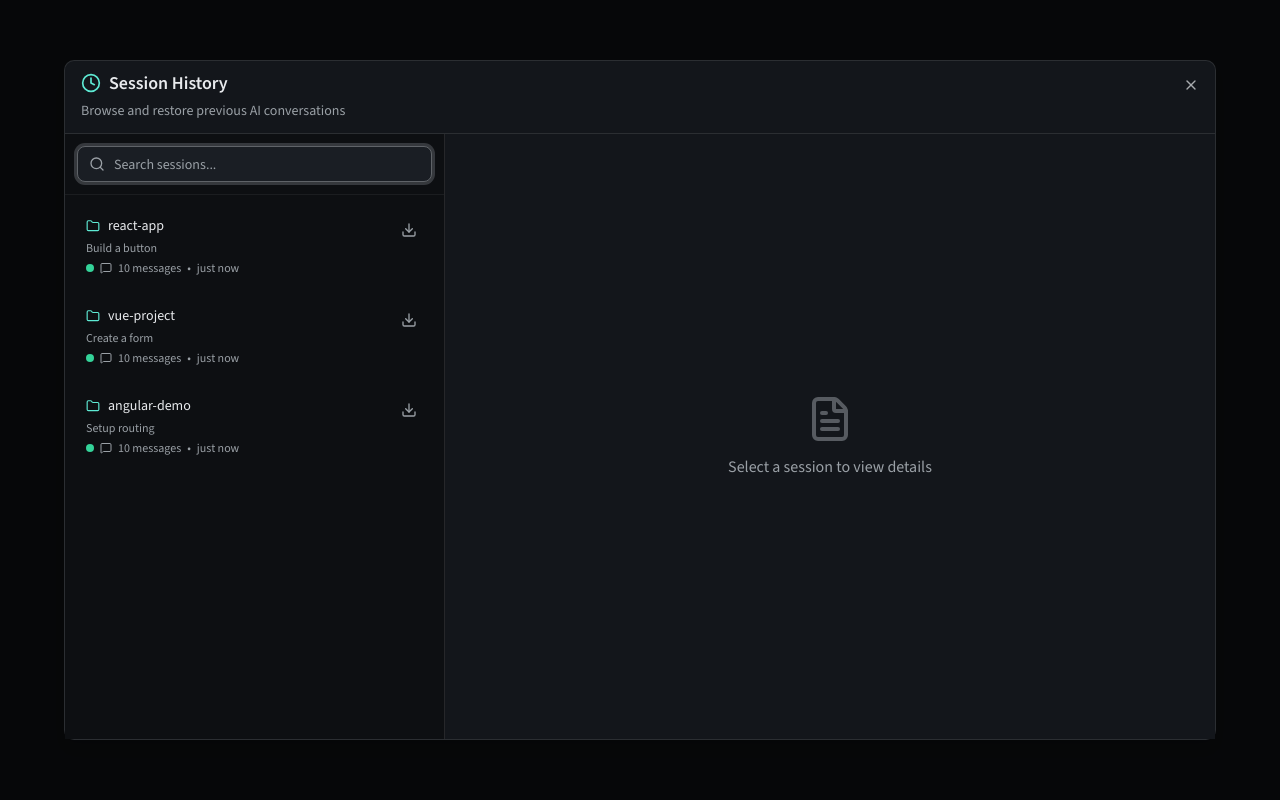
it: SessionBrowser › search filtering › should filter sessions based on search query
expect the text "react-app" is shown: met, box [108,216,164,236]
Note: Type in search box
Type "react" into the field with placeholder "Search sessions..." at (254, 164), box [77,146,432,182]
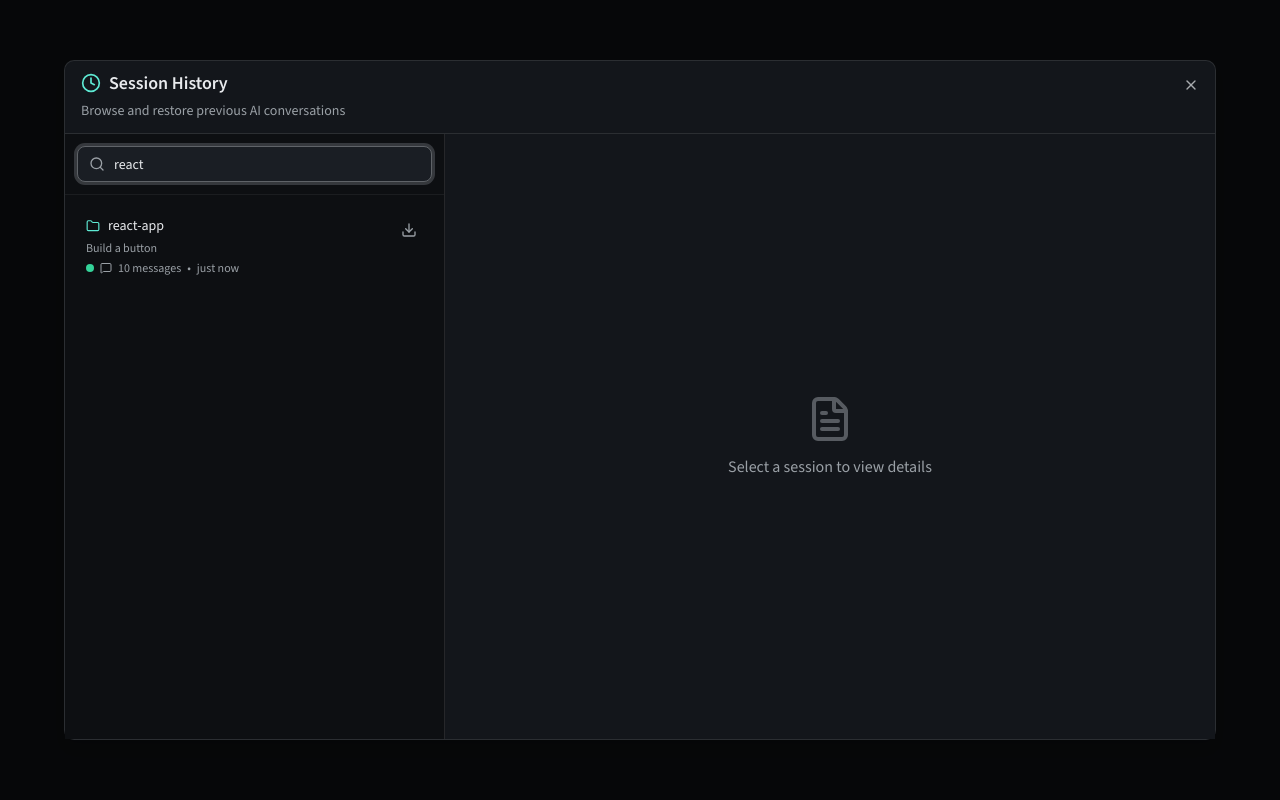
expect the text "react-app" is shown: met, box [108,216,164,236]
expect the button "vue-project" is gone: met
expect the button "angular-demo" is gone: met
